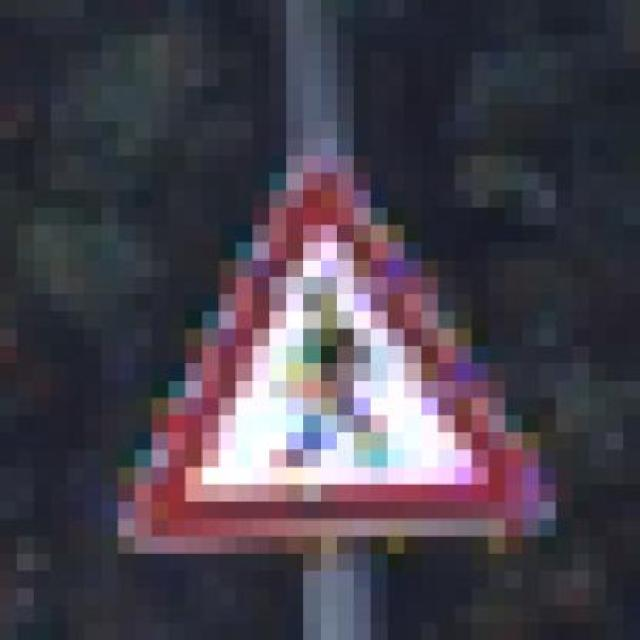Pedestrian Crossing: (77, 123, 566, 574)
